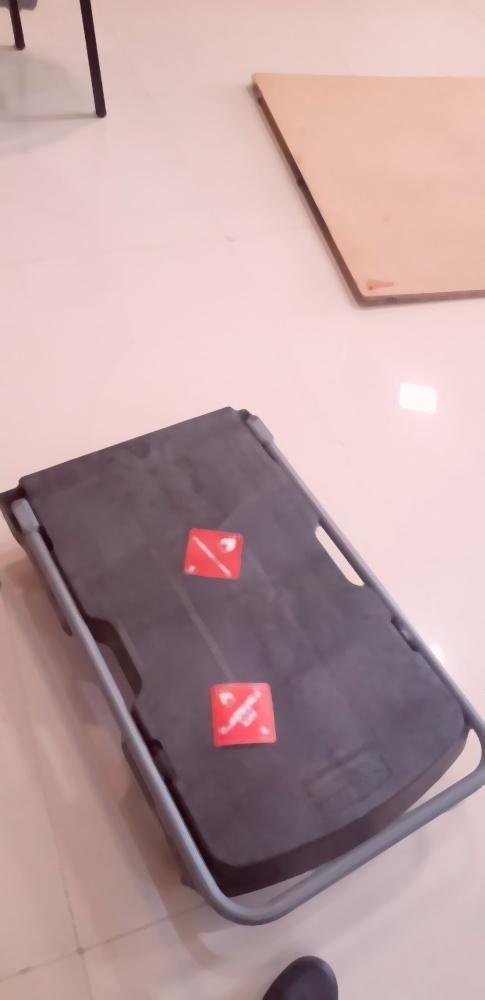flammable: (210, 681, 278, 745), (180, 525, 245, 580)
